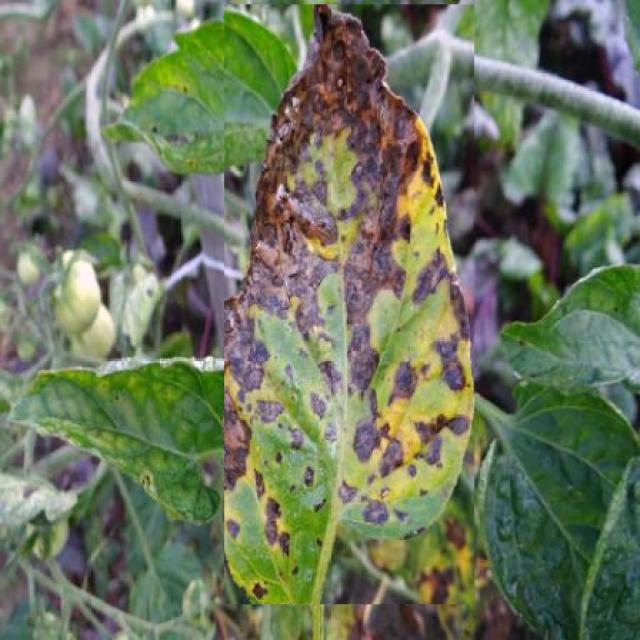Early Blight: (225, 4, 474, 604)
